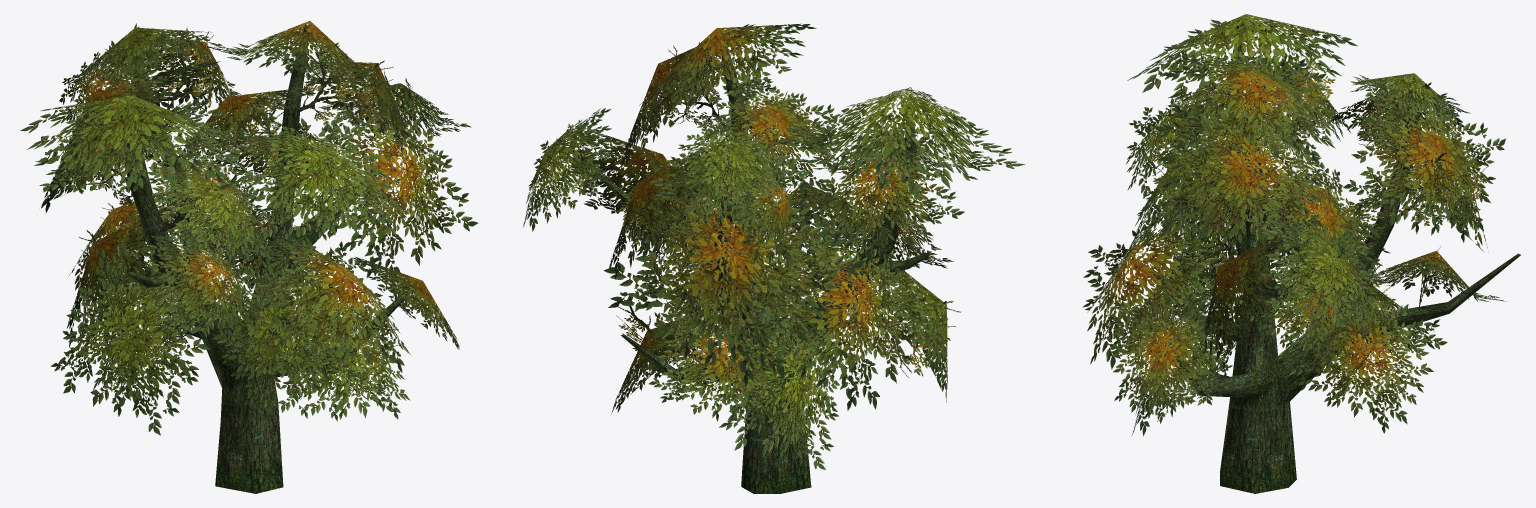
Rendered from tre_leaf02.glb.
3 views of the same model, side by side, from view 1: azimuth 30°, elevation 25°; view 2: azimuth 150°, elevation 25°; view 3: azimuth 270°, elevation 25° (orthographic). The views are drawn at different scales.
Parts seen in each view (by area): view 1: tre_lea02_01, tre_lea02_02, tre_lea02_03, tre_lea02_wood01, tre_lea02_wood02; view 2: tre_lea02_02, tre_lea02_01, tre_lea02_03, tre_lea02_wood01, tre_lea02_wood02; view 3: tre_lea02_02, tre_lea02_01, tre_lea02_wood01, tre_lea02_03, tre_lea02_wood02.
Boxes of the visible parts, box(x1,y1,x2,y2) form: tre_lea02_01: box(20, 27, 471, 435); tre_lea02_02: box(41, 21, 478, 372); tre_lea02_03: box(67, 27, 416, 401); tre_lea02_wood01: box(126, 25, 424, 407); tre_lea02_wood02: box(215, 389, 283, 493); tre_lea02_02: box(570, 23, 964, 428); tre_lea02_01: box(523, 87, 1025, 469); tre_lea02_03: box(547, 42, 960, 440); tre_lea02_wood01: box(571, 33, 929, 411); tre_lea02_wood02: box(741, 401, 811, 493); tre_lea02_02: box(1083, 56, 1507, 433); tre_lea02_01: box(1112, 14, 1463, 436); tre_lea02_wood01: box(1130, 18, 1520, 411); tre_lea02_03: box(1137, 44, 1488, 421); tre_lea02_wood02: box(1220, 397, 1296, 493).
Size of the model in its own units: 47.05 by 41.61 by 39.18.
5 materials, 5 textured.
